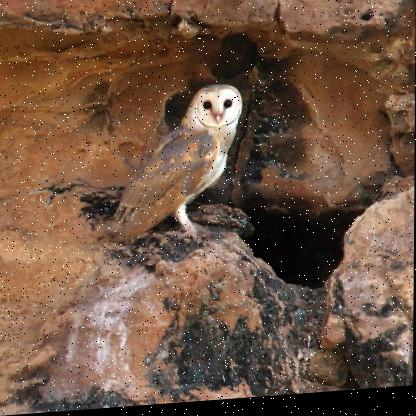Burung: (118, 86, 245, 254)
